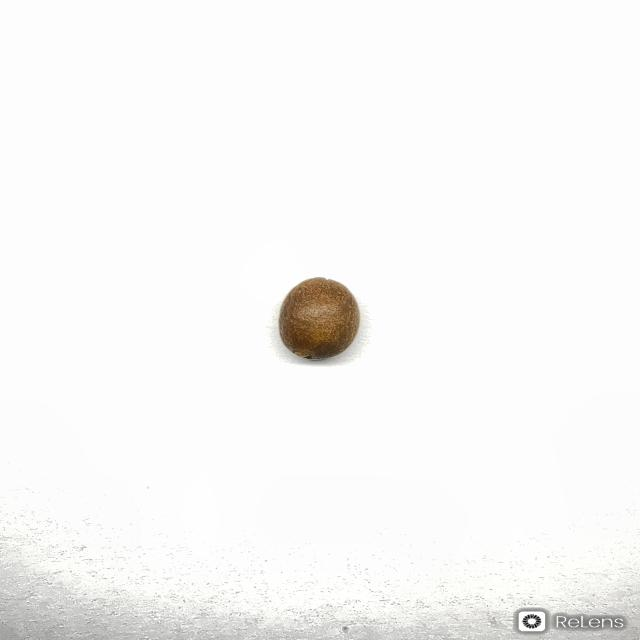Good bean: (277, 276, 360, 360)
